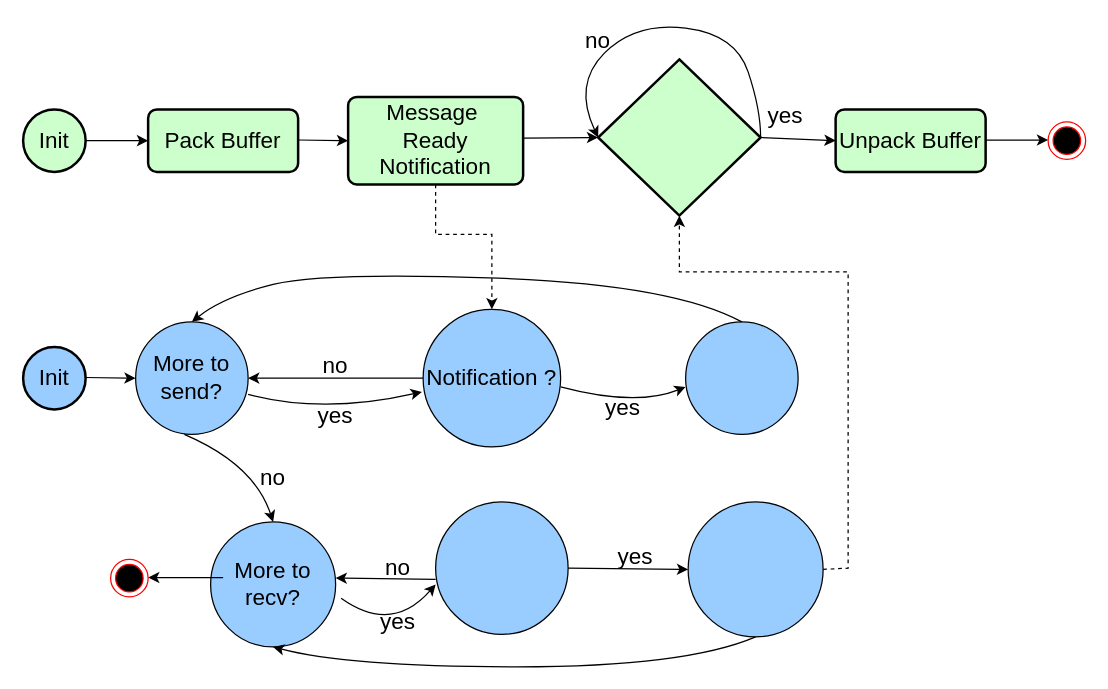
This 1108x689 diagram has some shape labels left out. Here are the shapes that lost their labels. From the top down, the centre of each, then its label:
At point (678, 137): "Notification from CPU".
At point (741, 377): "MPI_Send".
At point (501, 567): "MPI_Test?".
At point (755, 569): "Unpack Ready Notification".
